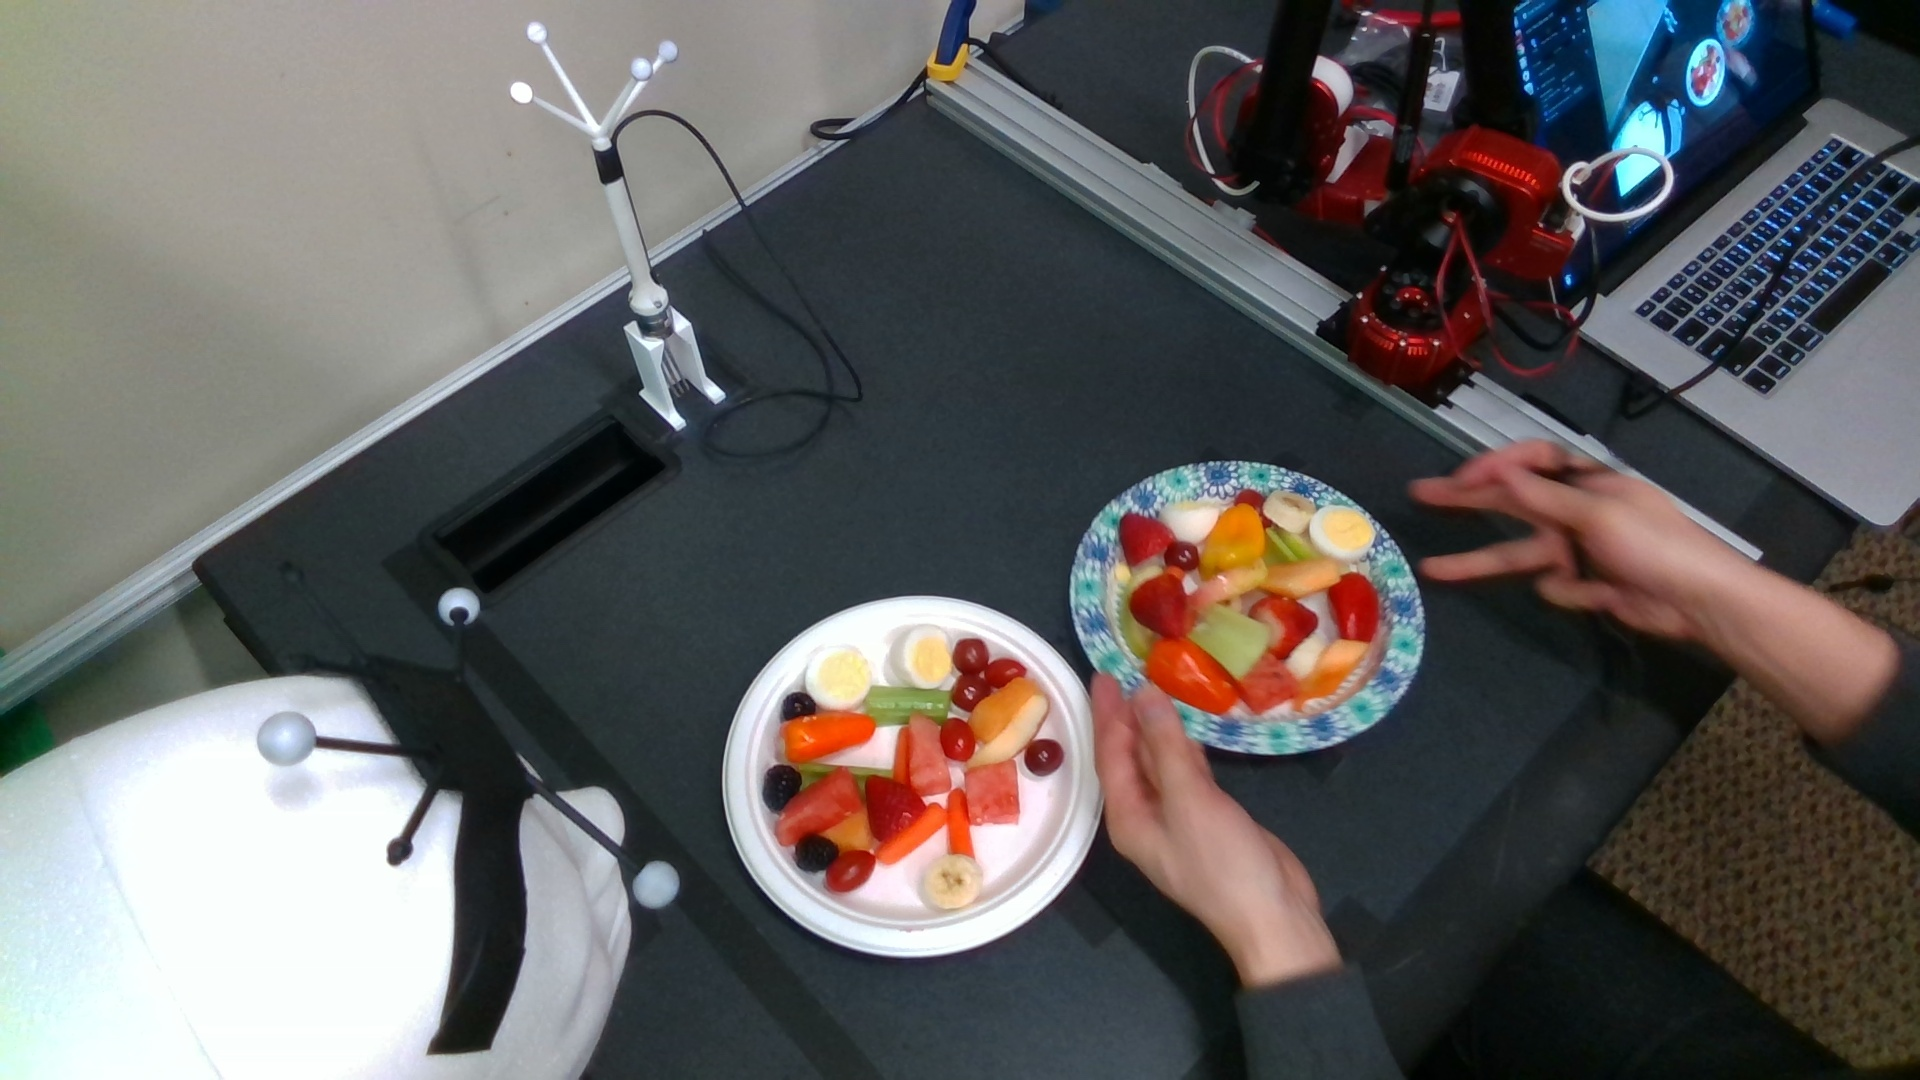apple: (971, 694, 1052, 765), (1191, 564, 1269, 605)
banana: (923, 855, 982, 909), (1263, 491, 1316, 535)
bell_pepper: (1147, 640, 1237, 713), (781, 711, 876, 764), (1329, 571, 1378, 641)
blackberry: (764, 765, 800, 812), (795, 835, 837, 872), (783, 692, 815, 720)
cantalope: (1294, 638, 1367, 711), (967, 676, 1036, 742), (1263, 560, 1338, 597)
carrot: (876, 803, 945, 865), (947, 789, 977, 858), (895, 727, 909, 785)
celery: (1188, 605, 1269, 679), (865, 686, 953, 725)
cherry_tomato: (825, 851, 876, 891), (942, 717, 975, 762), (989, 655, 1027, 688)
egg: (804, 645, 872, 709), (1201, 505, 1263, 572), (890, 625, 952, 690), (1311, 505, 1375, 560), (1162, 498, 1218, 543)
grape: (1026, 738, 1062, 775), (953, 676, 992, 709), (953, 640, 988, 674), (1164, 543, 1199, 571)
melon: (777, 767, 862, 845), (965, 760, 1021, 824), (1240, 654, 1298, 713), (909, 713, 949, 796)
plate: (721, 595, 1106, 956), (1069, 462, 1424, 756)
strawberry: (864, 775, 927, 841), (1250, 596, 1317, 657), (1130, 574, 1185, 636), (1121, 514, 1174, 566)
